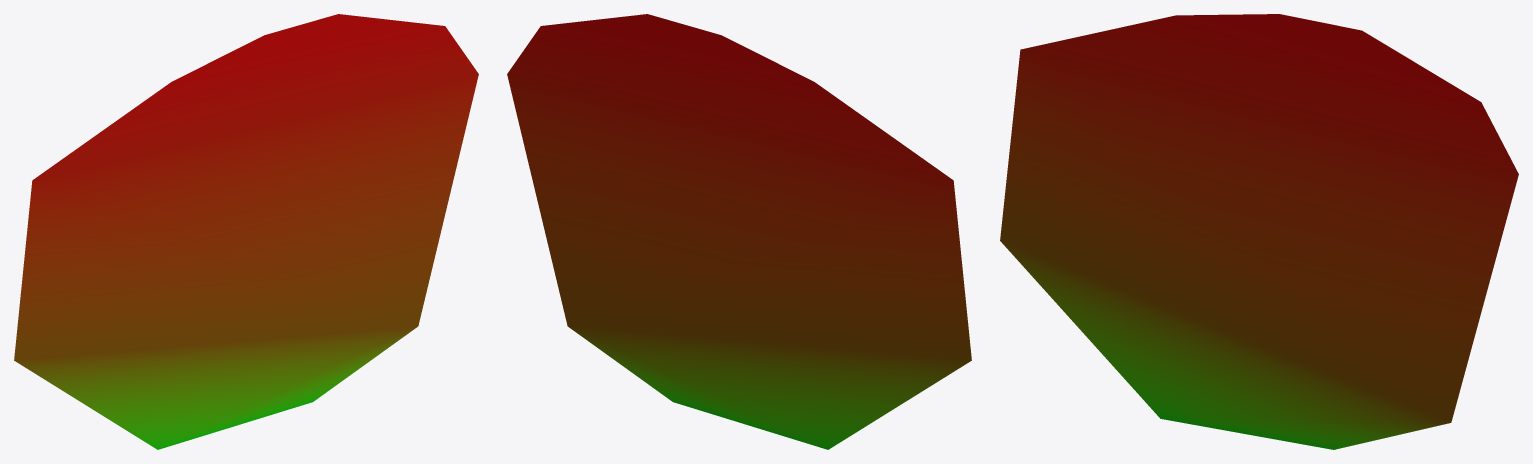
Rendered from Var2_LOD4.fbx.
3 renders of one model, left to right at view 1: azimuth 30°, elevation 25°; view 2: azimuth 150°, elevation 25°; view 3: azimuth 330°, elevation 25°, orthographic. The views are drawn at different scales.
Visible parts, largest first — view 1: _eax5_Var2_LOD4; view 2: _eax5_Var2_LOD4; view 3: _eax5_Var2_LOD4.
Part boxes in pixels (x1,y1,x2,y2): _eax5_Var2_LOD4: (14, 14, 478, 449); _eax5_Var2_LOD4: (507, 14, 971, 449); _eax5_Var2_LOD4: (1000, 14, 1518, 449).
Bounding box in the file's own units: 30.54 × 24.61 × 1.27e-06.
